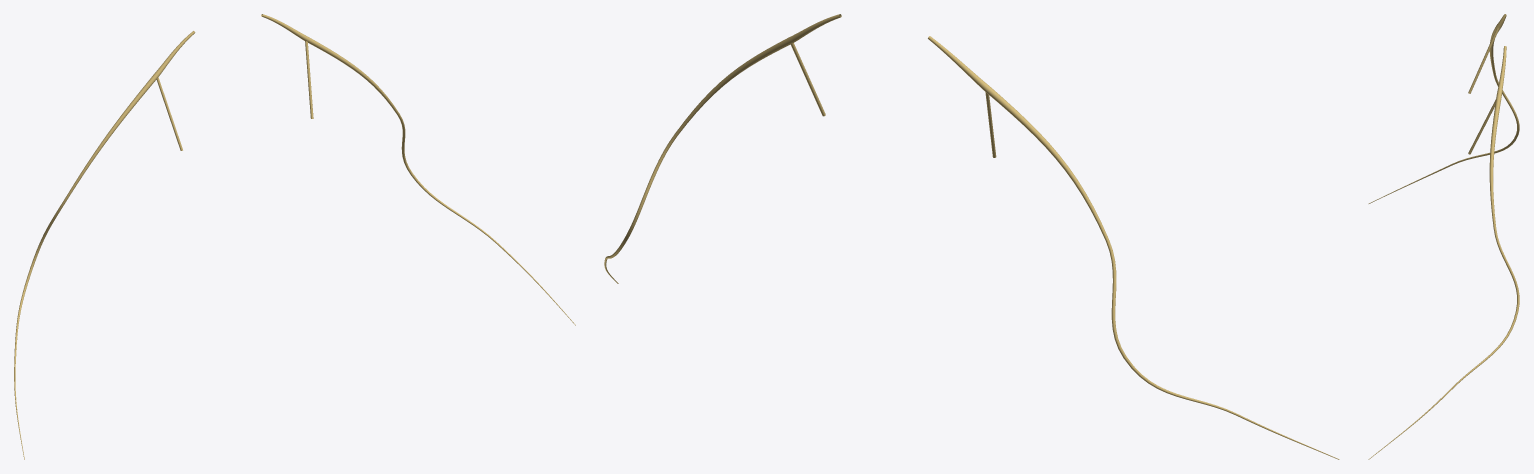
File: detail-nervous-abdomen.glb
3 renders of one model, left to right at view 1: azimuth 30°, elevation 25°; view 2: azimuth 150°, elevation 25°; view 3: azimuth 270°, elevation 25°, orthographic. The views are drawn at different scales.
Visible parts, largest first — view 1: za-b102a1a72ed56a69, za-ba90def3dd4c4b8c; view 2: za-b102a1a72ed56a69, za-ba90def3dd4c4b8c; view 3: za-ba90def3dd4c4b8c, za-b102a1a72ed56a69.
Boxes of the visible parts, <box> form: za-b102a1a72ed56a69: <box>14,31,195,459</box>; za-ba90def3dd4c4b8c: <box>261,14,575,325</box>; za-b102a1a72ed56a69: <box>928,36,1339,459</box>; za-ba90def3dd4c4b8c: <box>604,14,841,283</box>; za-ba90def3dd4c4b8c: <box>1368,46,1519,459</box>; za-b102a1a72ed56a69: <box>1368,14,1519,203</box>.
Size of the model in its own units: 0.231 by 0.1272 by 0.0577.
